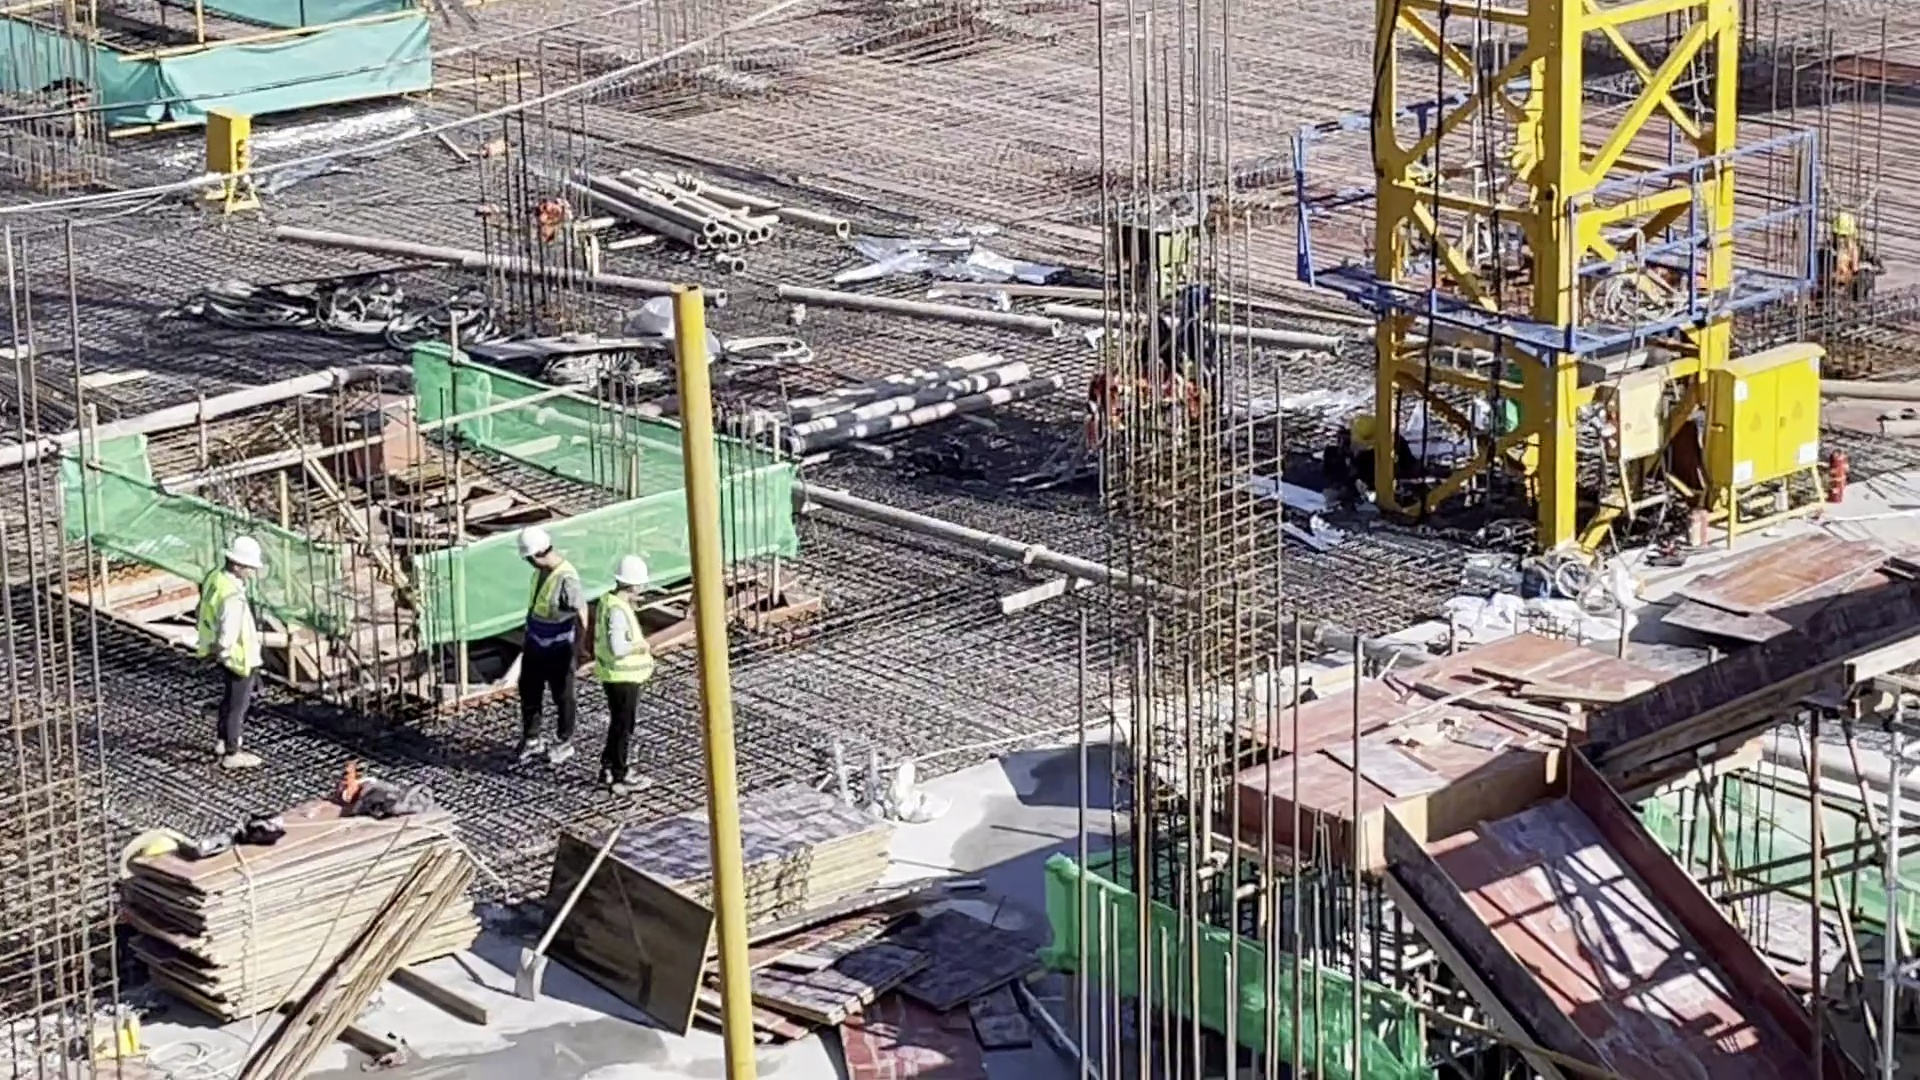helmet: (611, 554, 654, 587), (222, 535, 262, 568), (517, 532, 552, 557), (1833, 205, 1854, 245), (1352, 416, 1374, 449)
person: (197, 535, 274, 765), (515, 531, 585, 778), (597, 553, 654, 794), (1321, 416, 1420, 506), (1810, 205, 1881, 290)
vest: (592, 597, 654, 690), (200, 572, 259, 669), (526, 562, 578, 649), (1824, 247, 1865, 283)
